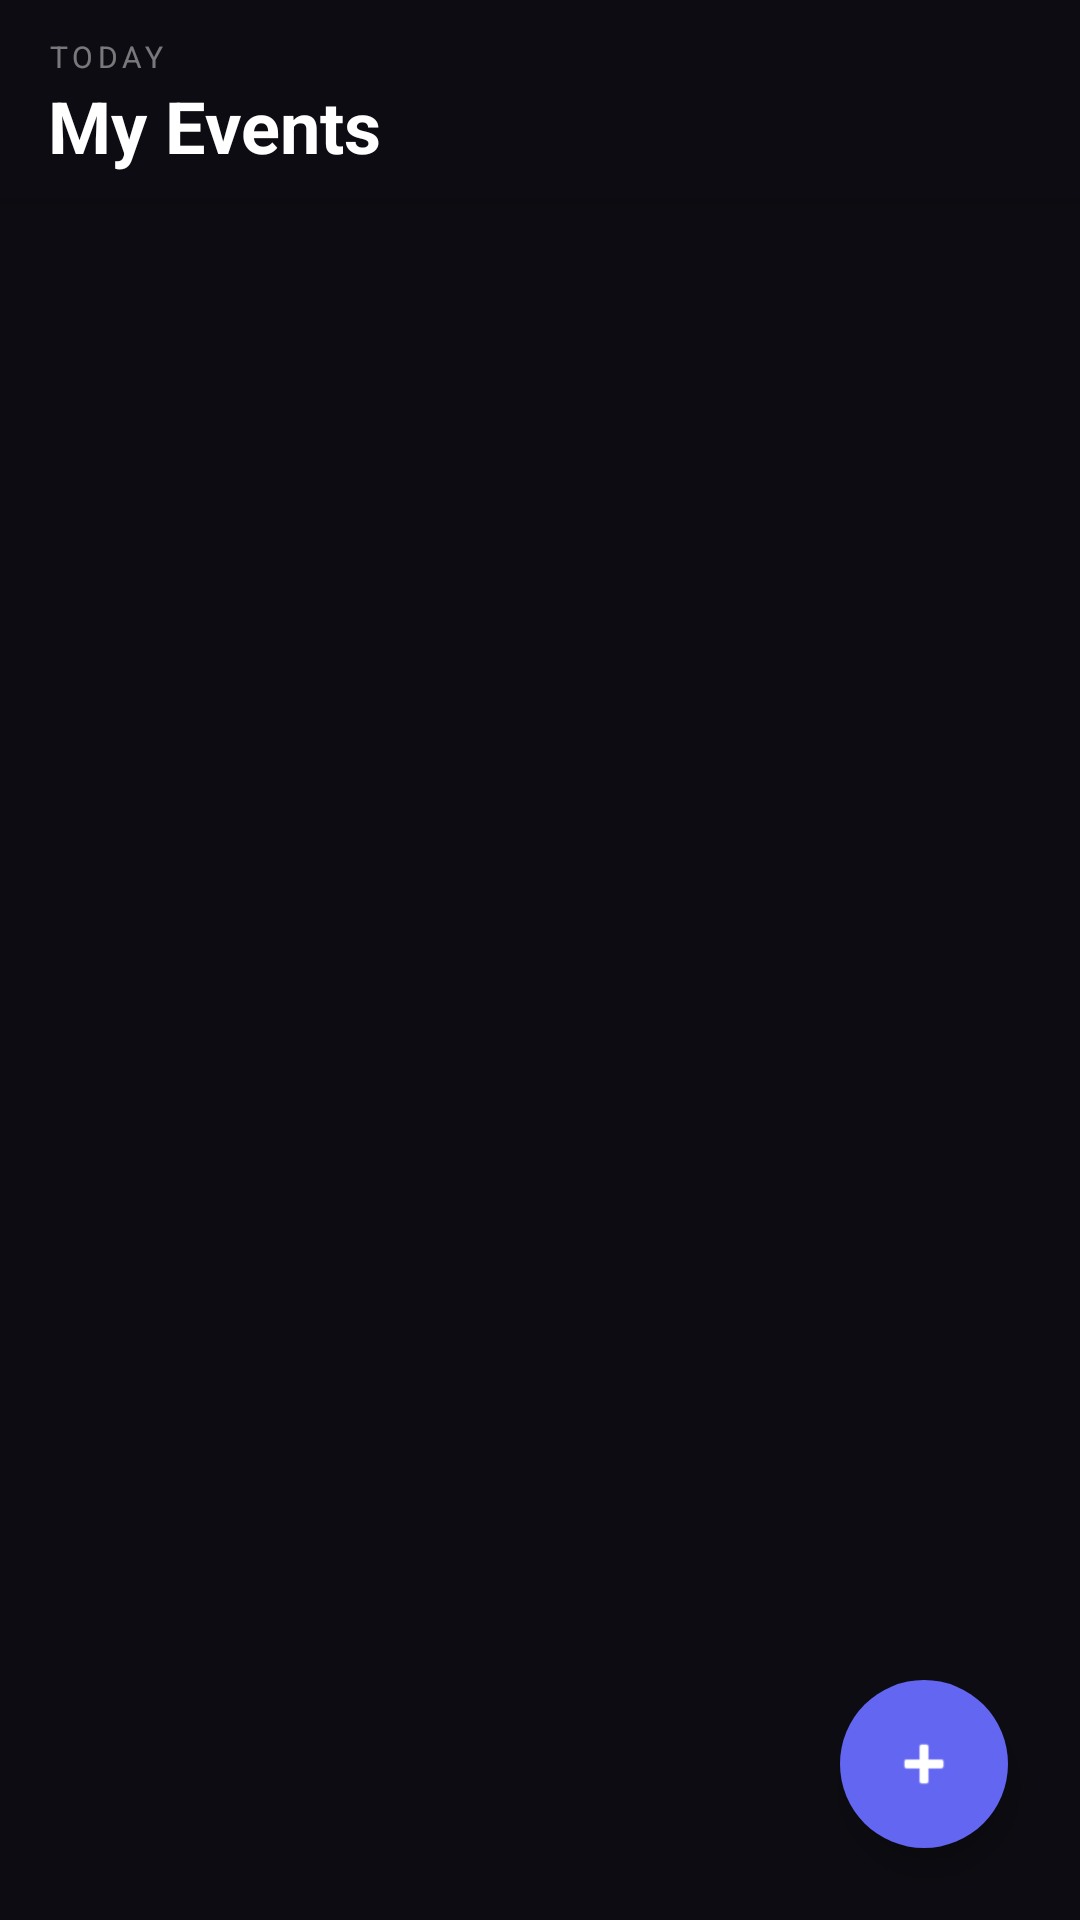

Screen size 1080 x 1920. Icon name, then its box in pixels as (x1, y1, x2, y2):
Add Event: (840, 1680, 1008, 1848)
